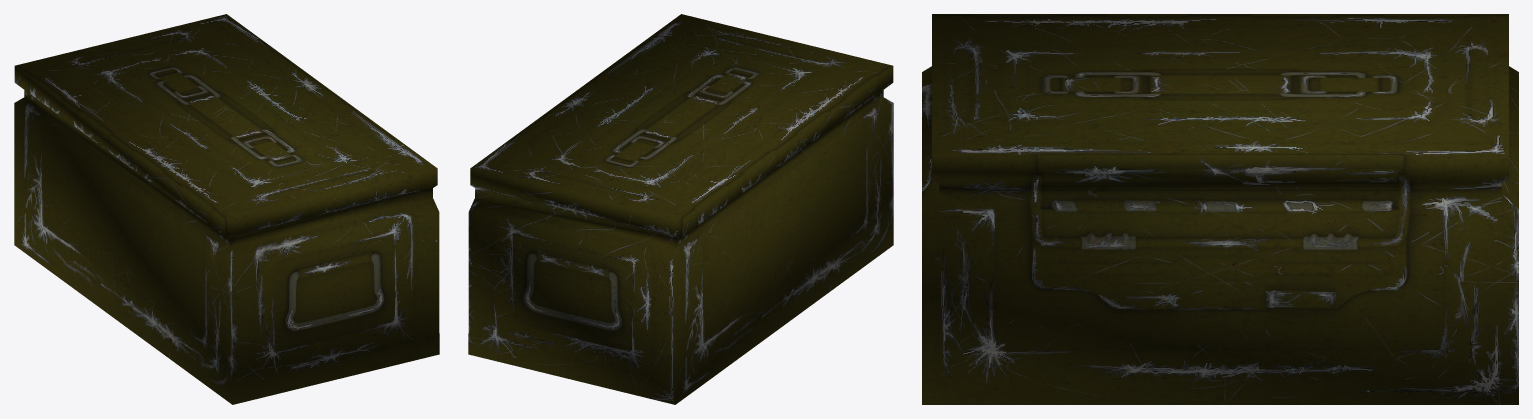
File: Ammo_box.fbx
3 renders of one model, left to right at view 1: azimuth 30°, elevation 25°; view 2: azimuth 150°, elevation 25°; view 3: azimuth 270°, elevation 25°, orthographic. The views are drawn at different scales.
Visible parts, largest first — view 1: Ammo_box; view 2: Ammo_box; view 3: Ammo_box.
Part boxes in pixels (<box>): Ammo_box: <box>14,14,439,404</box>; Ammo_box: <box>468,14,893,404</box>; Ammo_box: <box>922,14,1518,404</box>.
Size of the model in its own units: 24.45 by 20.16 by 43.53.
